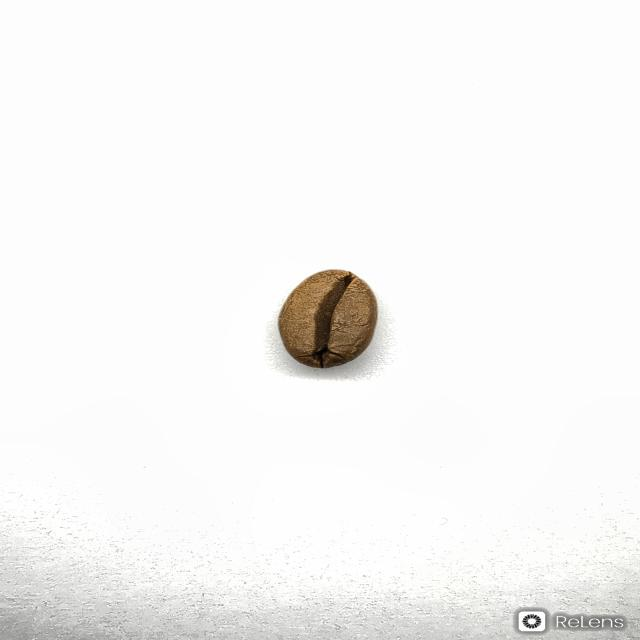Good bean: (277, 268, 378, 369)
